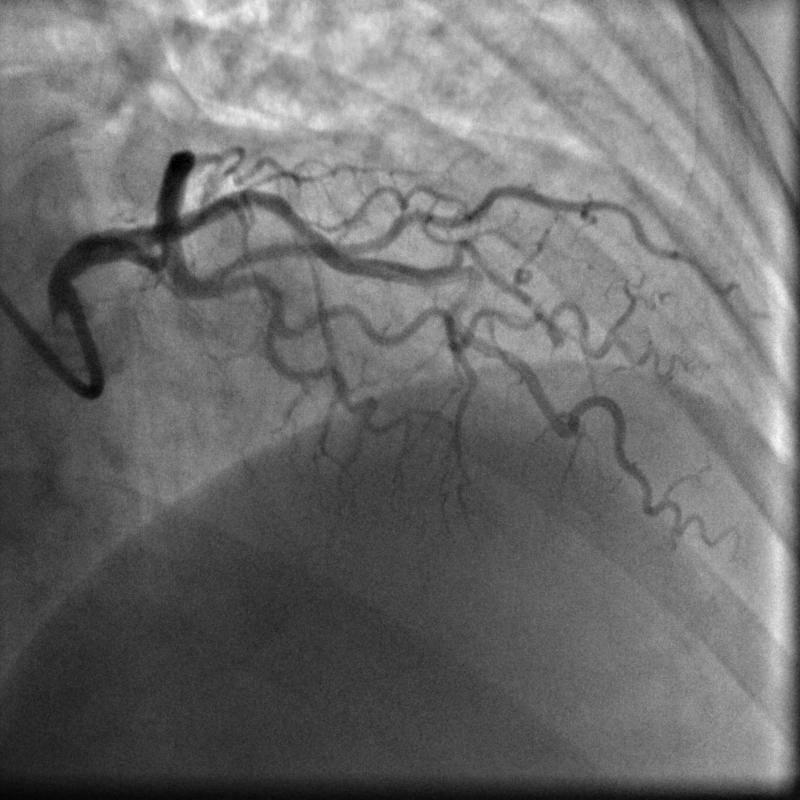Stenosis: (142, 223, 170, 269)
